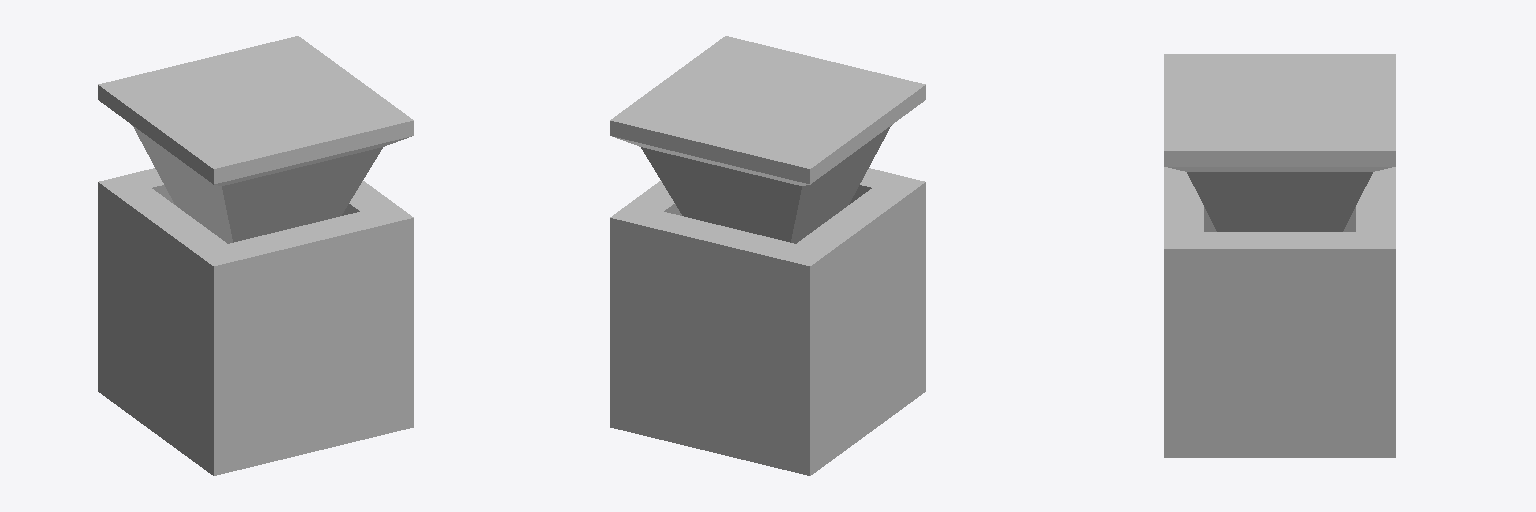
File: AnimatedBox_000167.obj
The picture shows the model from 3 angles: view 1: azimuth 30°, elevation 25°; view 2: azimuth 150°, elevation 25°; view 3: azimuth 270°, elevation 25°; orthographic projection.
Parts seen in each view (by area): view 1: Cube, Cube.001; view 2: Cube, Cube.001; view 3: Cube, Cube.001.
Boxes of the visible parts, box(x1,y1,x2,y2) form: Cube: box(98, 168, 413, 475); Cube.001: box(98, 36, 413, 243); Cube: box(610, 168, 925, 475); Cube.001: box(610, 36, 925, 243); Cube: box(1164, 167, 1395, 457); Cube.001: box(1164, 54, 1395, 231).
Bounding box in the file's own units: 2 × 2.93 × 2.